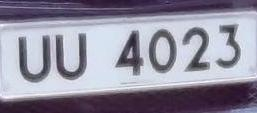0: (145, 23, 182, 79)
2: (177, 22, 216, 76)
4: (111, 23, 146, 82)
E: (210, 18, 246, 73)
U: (51, 29, 95, 86), (12, 31, 56, 86)
